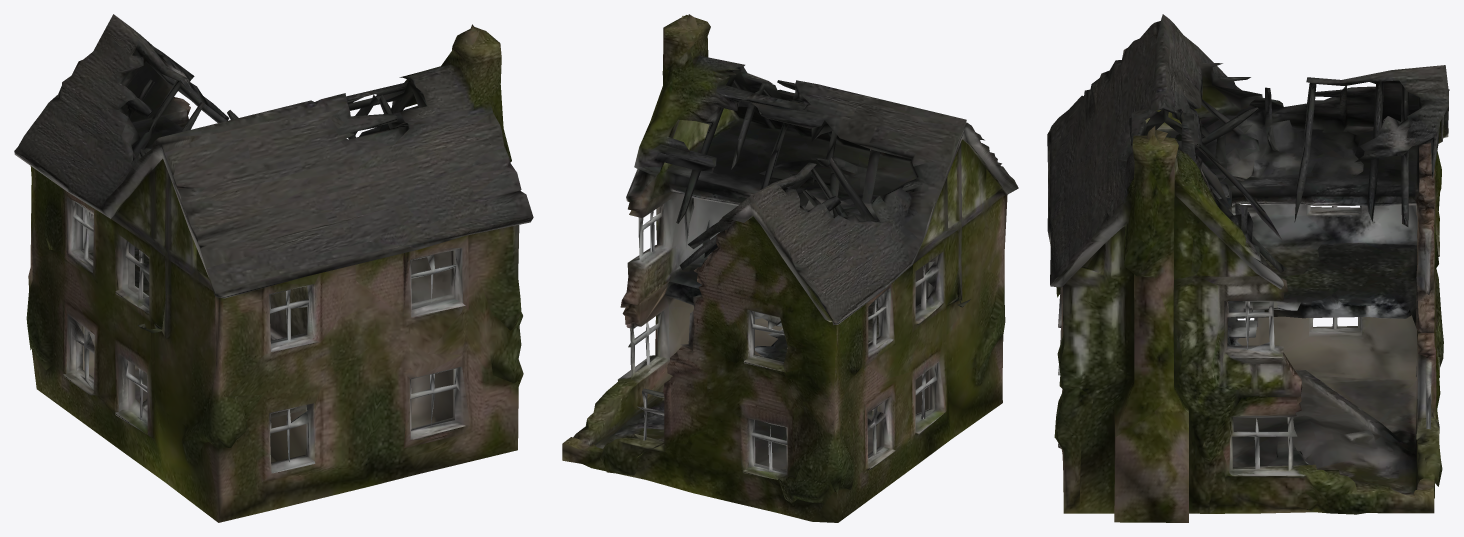
The model's file is ruin-house.glb.
The picture shows the model from 3 angles, left to right: view 1: azimuth 30°, elevation 25°; view 2: azimuth 150°, elevation 25°; view 3: azimuth 270°, elevation 25°; orthographic projection. The views are drawn at different scales.
Visible parts, largest first — view 1: tripo_node_599b4ace-0af3-4c63-9373-fd4698858fd5; view 2: tripo_node_599b4ace-0af3-4c63-9373-fd4698858fd5; view 3: tripo_node_599b4ace-0af3-4c63-9373-fd4698858fd5.
Boxes of the visible parts, <box> form: tripo_node_599b4ace-0af3-4c63-9373-fd4698858fd5: <box>14,14,533,522</box>; tripo_node_599b4ace-0af3-4c63-9373-fd4698858fd5: <box>562,14,1018,522</box>; tripo_node_599b4ace-0af3-4c63-9373-fd4698858fd5: <box>1047,14,1449,522</box>.
Size of the model in its own units: 0.933 by 1 by 0.9474.
1 material, 1 textured.
